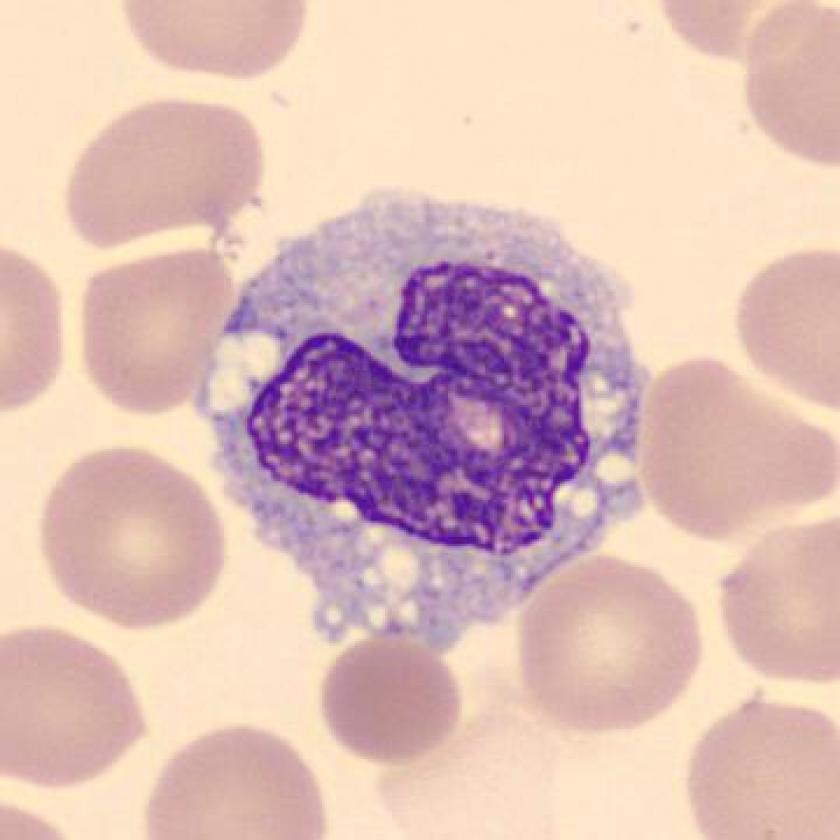monocyte: (174, 158, 678, 670)
